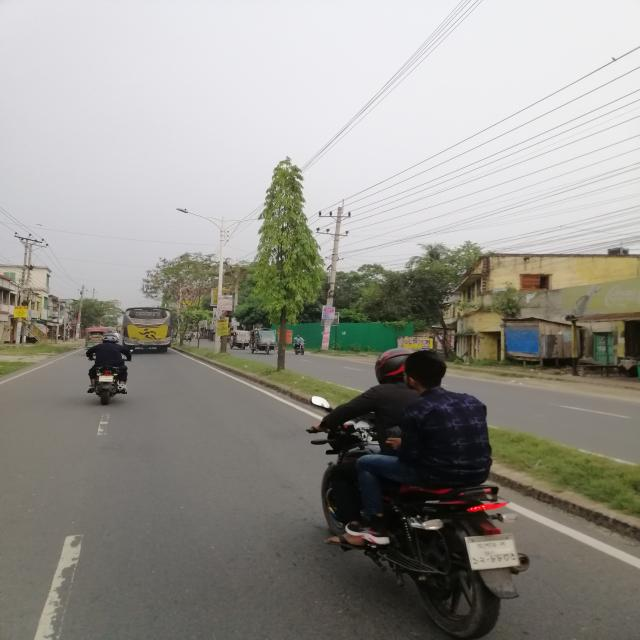Motorbike: (307, 426, 539, 640), (78, 363, 132, 407)
